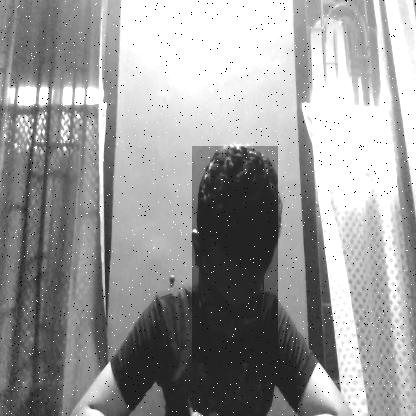Distracted: (192, 146, 278, 363)
